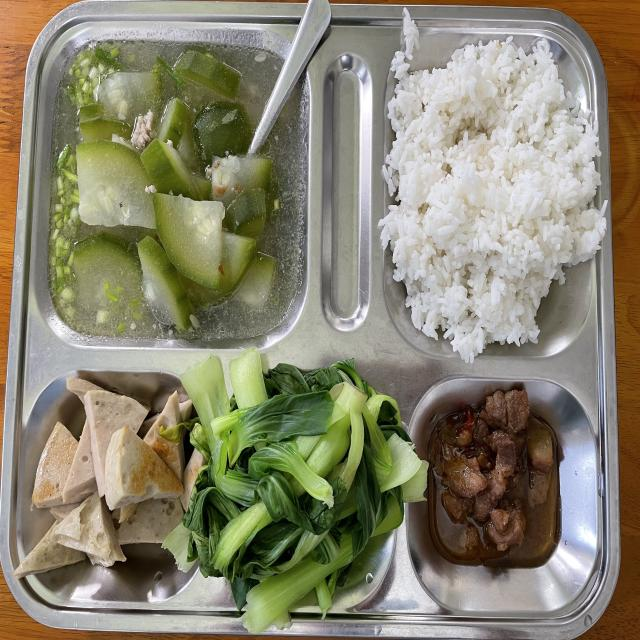canh bau: (49, 37, 308, 337)
com: (379, 39, 606, 361)
kho tieu: (437, 407, 565, 566), (253, 456, 260, 461)
rau: (169, 350, 426, 632)
